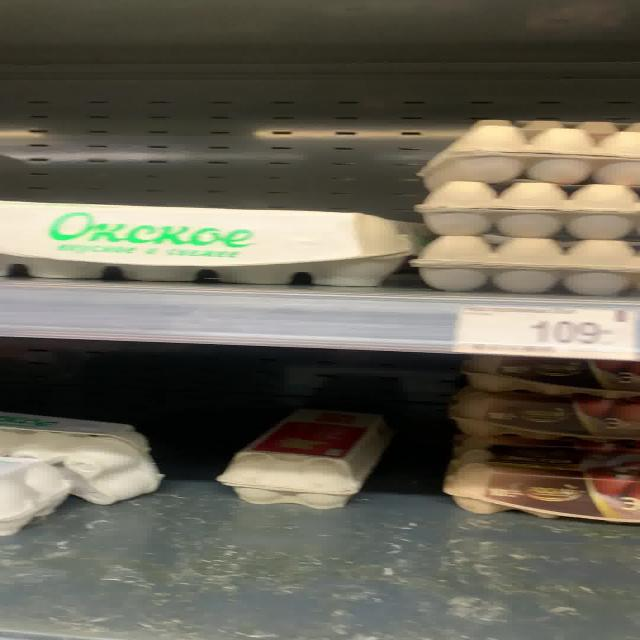egg box: (1, 200, 427, 294), (217, 410, 396, 510), (446, 448, 637, 525), (441, 385, 638, 444)
